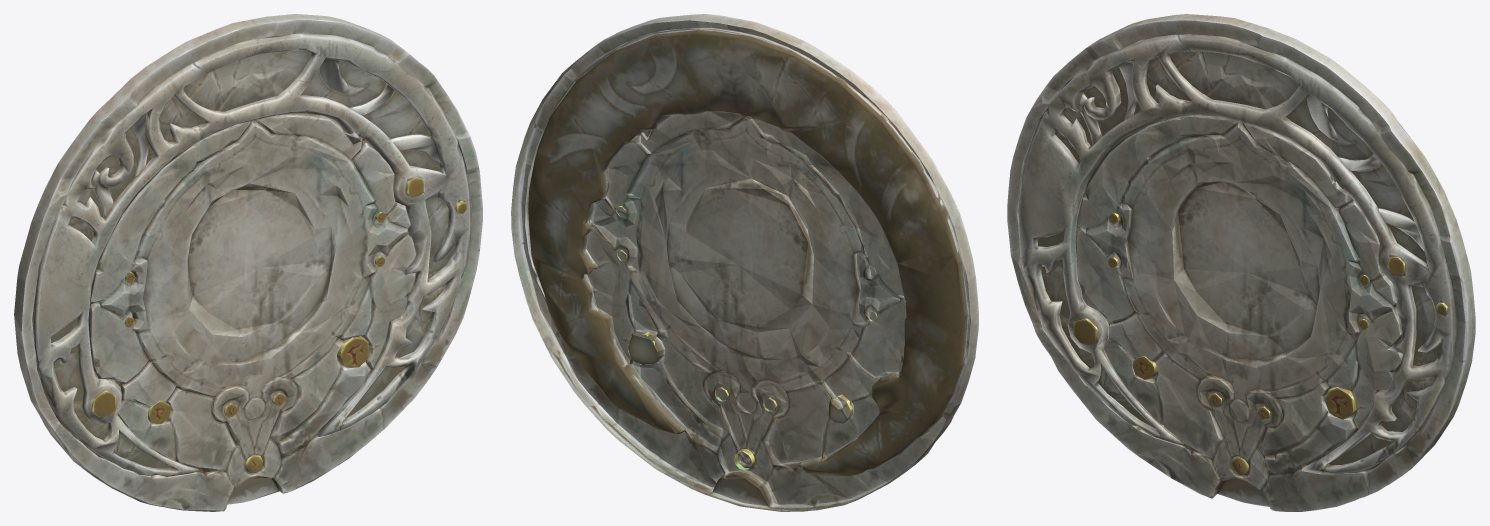
File: Vd_Dis_Relief.fbx
3 renders of one model, left to right at view 1: azimuth 30°, elevation 25°; view 2: azimuth 150°, elevation 25°; view 3: azimuth 330°, elevation 25°, orthographic.
Visible parts, largest first — view 1: Vd_Dis_Relief; view 2: Vd_Dis_Relief; view 3: Vd_Dis_Relief.
Part boxes in pixels (bbox=[...]): Vd_Dis_Relief: bbox=[14, 14, 482, 511]; Vd_Dis_Relief: bbox=[511, 14, 978, 511]; Vd_Dis_Relief: bbox=[1007, 14, 1475, 511].
Bounding box in the file's own units: 2230 × 2224 × 94.46.
